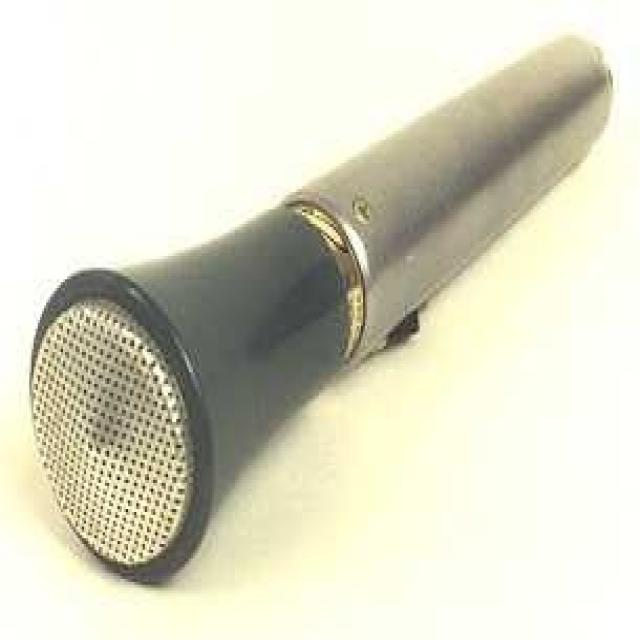microphone: (32, 42, 615, 579)
